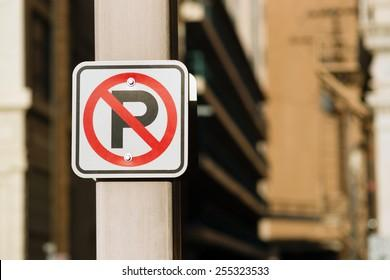No Parking: (70, 59, 184, 178)
